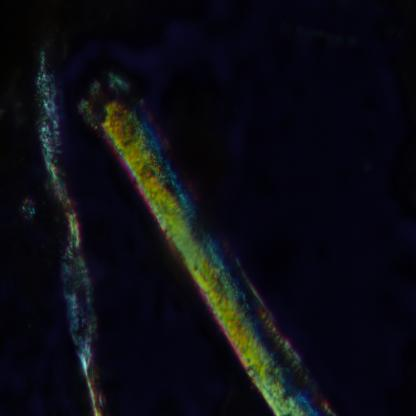Cellulose filter fibre: (29, 45, 113, 415)
Microfibre: (84, 73, 337, 416)
